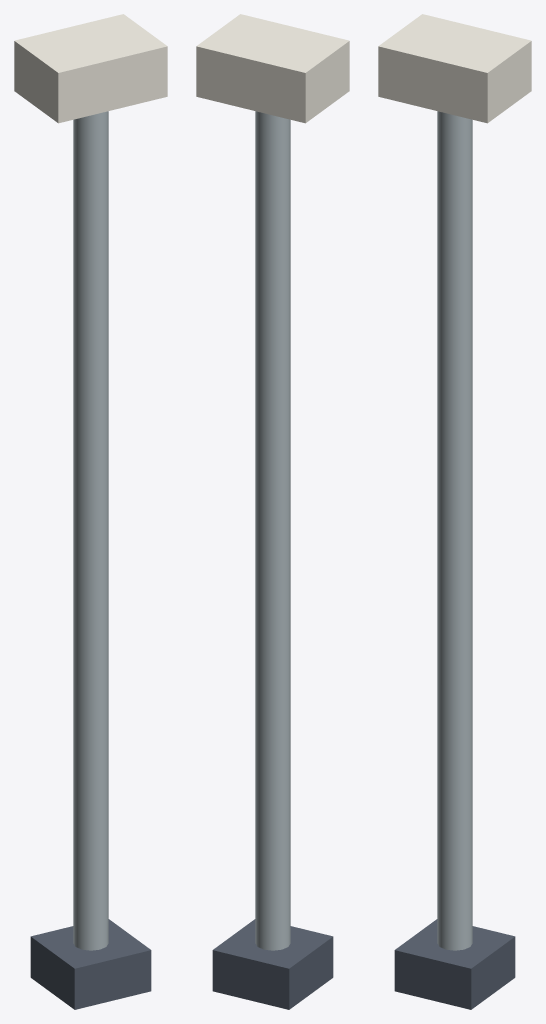
Rendered from lamp_post-procedural.glb.
The picture shows the model from 3 angles, left to right: view 1: azimuth 30°, elevation 25°; view 2: azimuth 150°, elevation 25°; view 3: azimuth 330°, elevation 25°; orthographic projection.
Parts seen in each view (by area): view 1: pole, lamp, base; view 2: pole, lamp, base; view 3: pole, lamp, base.
Boxes of the visible parts, x1=… form: pole: x1=73, y1=111, x2=108, y2=950; lamp: x1=14, y1=14, x2=167, y2=123; base: x1=30, y1=919, x2=151, y2=1009; pole: x1=255, y1=111, x2=290, y2=950; lamp: x1=196, y1=14, x2=349, y2=123; base: x1=212, y1=919, x2=333, y2=1009; pole: x1=437, y1=111, x2=472, y2=950; lamp: x1=378, y1=14, x2=531, y2=123; base: x1=394, y1=919, x2=515, y2=1009.
Bounding box in the file's own units: 0.5 × 4.11 × 0.35.
